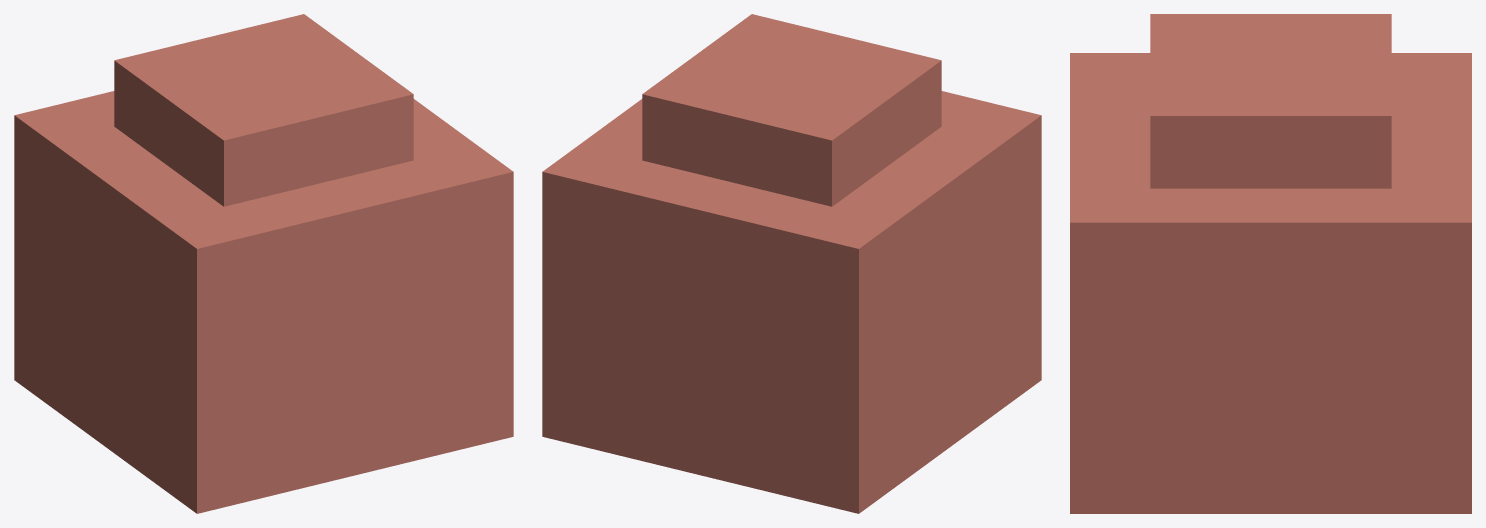
File: Item_DS_Food_BitrootSoup_V1.glb
3 views of the same model, side by side, from view 1: azimuth 30°, elevation 25°; view 2: azimuth 150°, elevation 25°; view 3: azimuth 270°, elevation 25° (orthographic). The views are drawn at different scales.
Visible parts, largest first — view 1: Cube, Cube.001; view 2: Cube, Cube.001; view 3: Cube, Cube.001.
Part boxes in pixels (box(x1,y1,x2,y2)): Cube: box(14, 91, 513, 513); Cube.001: box(114, 14, 413, 206); Cube: box(542, 91, 1041, 513); Cube.001: box(642, 14, 941, 206); Cube: box(1070, 53, 1471, 513); Cube.001: box(1150, 14, 1391, 188).
Bounding box in the file's own units: 0.22 × 0.22 × 0.22.
